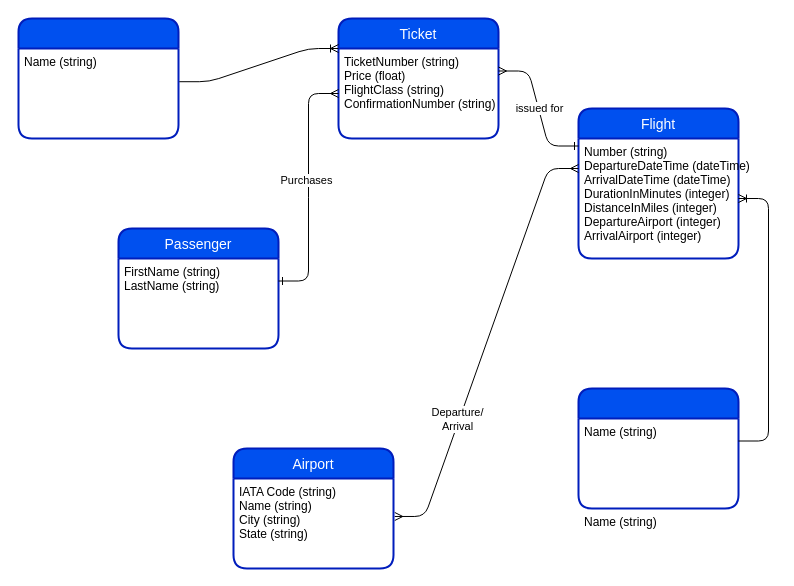
This 794x586 diagram has some shape labels left out. Here are the shapes that lost their labels. From the top down, the box of each, then its label:
(17, 17, 179, 139): FlightClass
(577, 387, 739, 509): Airline
